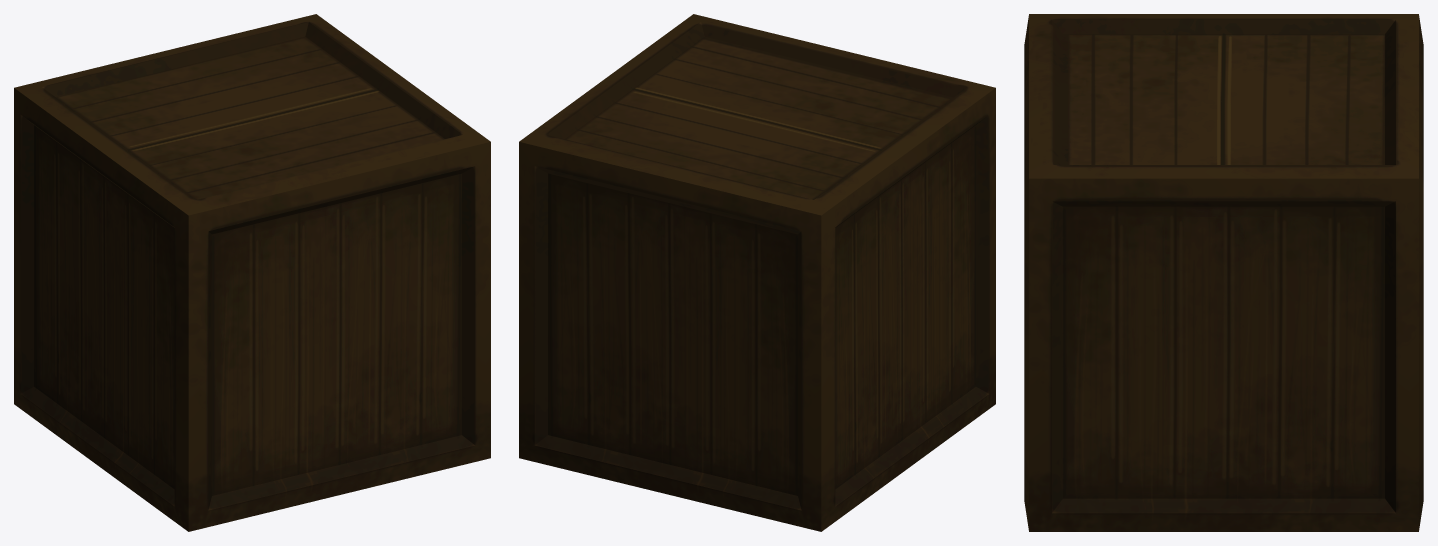
Rendered from Crate.fbx.
The picture shows the model from 3 angles, left to right: view 1: azimuth 30°, elevation 25°; view 2: azimuth 150°, elevation 25°; view 3: azimuth 270°, elevation 25°; orthographic projection. The views are drawn at different scales.
Parts seen in each view (by area): view 1: Crate; view 2: Crate; view 3: Crate.
Boxes of the visible parts, x1,y1,x2,y2 form: Crate: (14,14,490,531); Crate: (519,14,995,531); Crate: (1024,14,1423,531).
Bounding box in the file's own units: 7.27 × 7.27 × 7.27.
